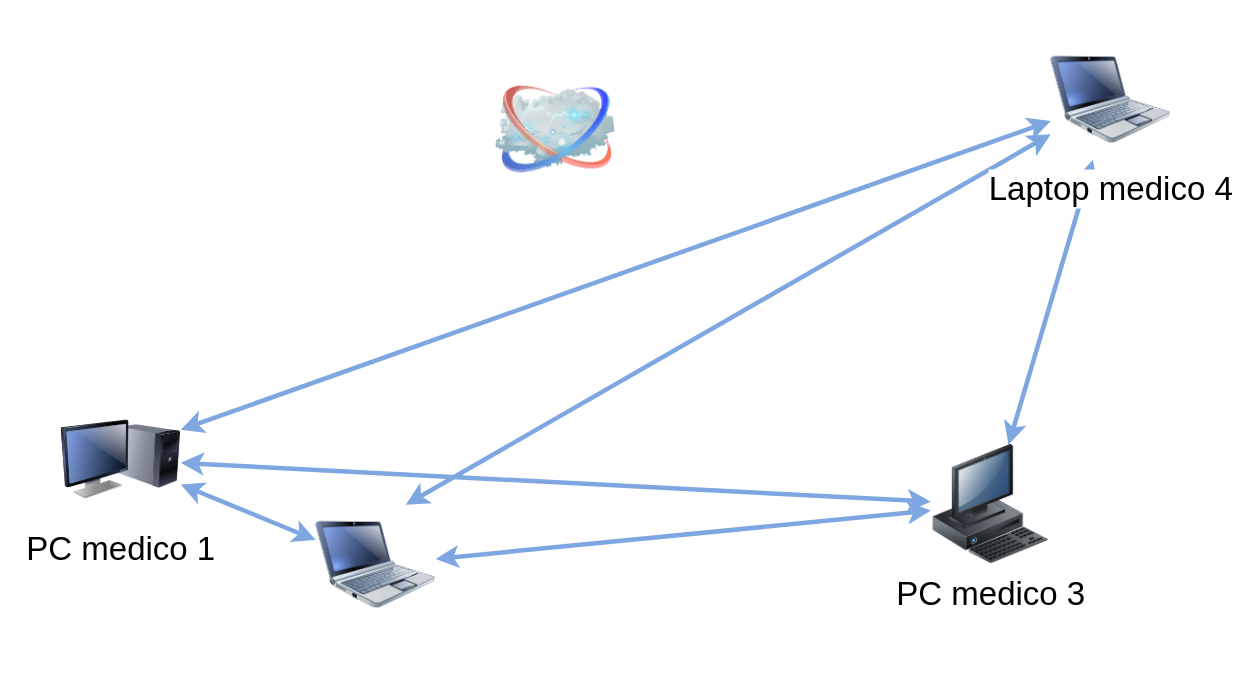
Image size: 1259x699. Some labels were removed from this diagram. Here are the shapes that lost their labels. From the top down, the centre of each, then its label:
At (555,129): "red virtual formada por CliniShare".
At (375,564): "Laptop medico 2".
